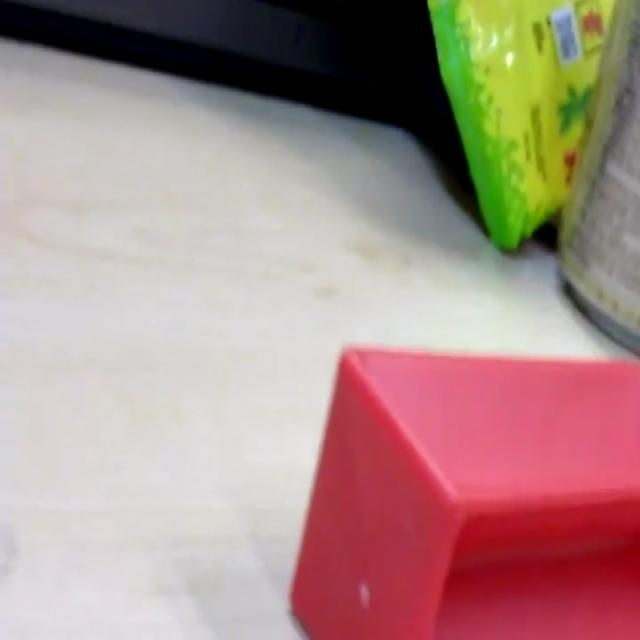red_block: (288, 340, 639, 636)
